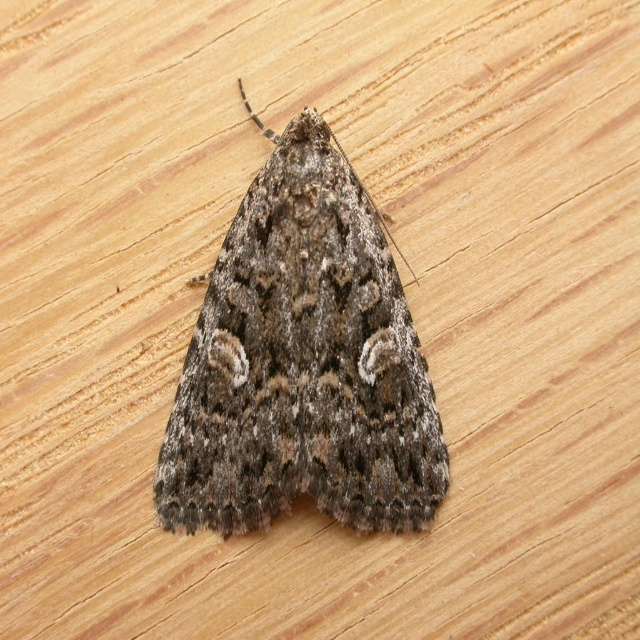Moths and butterflies: (153, 74, 454, 535)
